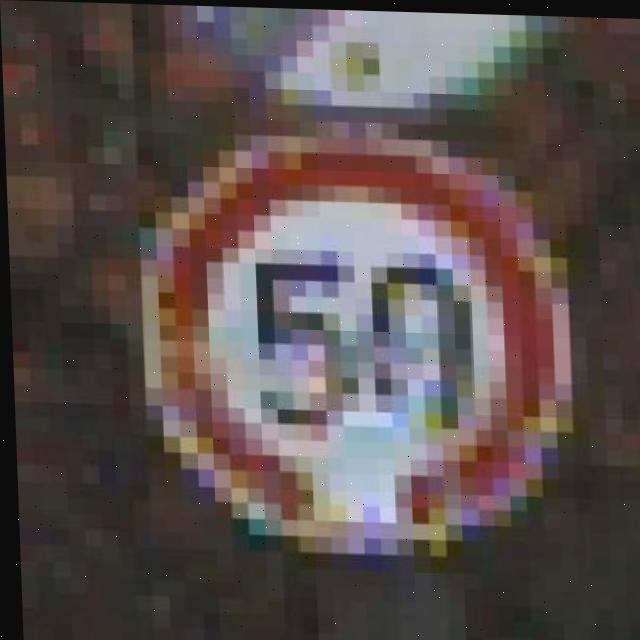Speed limit 50: (133, 121, 580, 560)
